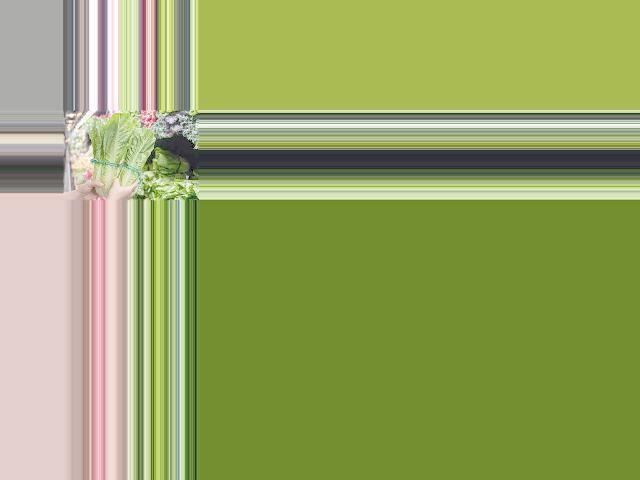lettuce: (89, 116, 156, 201)
